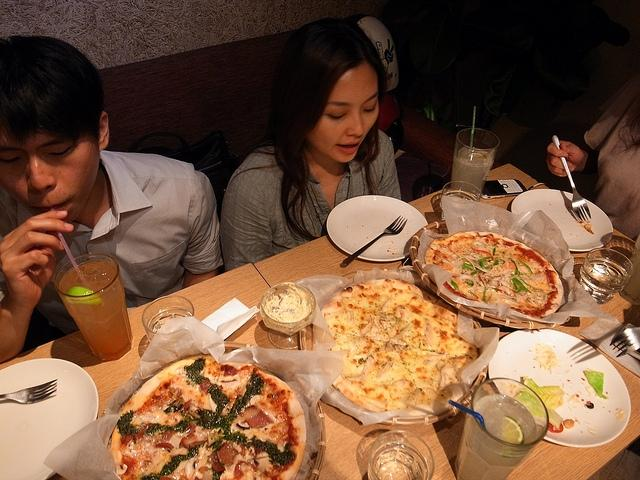lime: (502, 416, 524, 444), (66, 286, 95, 296), (466, 152, 487, 161)
